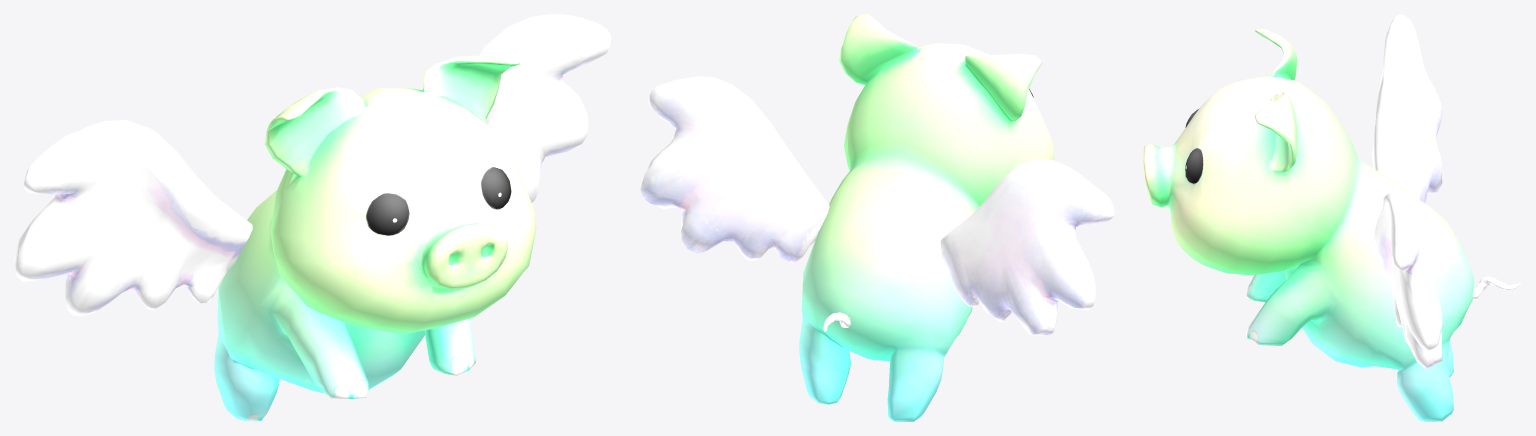
Rendered from greenPig.glb.
3 renders of one model, left to right at view 1: azimuth 30°, elevation 25°; view 2: azimuth 150°, elevation 25°; view 3: azimuth 270°, elevation 25°, orthographic. The views are drawn at different scales.
Parts seen in each view (by area): view 1: Pig, WingLP; view 2: Pig, WingLP; view 3: Pig, WingLP, Tail.001.
Boxes of the visible parts, left/top/right/bottom form: Pig: left=214, top=55, right=536, bottom=421; WingLP: left=14, top=14, right=611, bottom=316; Pig: left=799, top=14, right=1054, bottom=421; WingLP: left=640, top=76, right=1114, bottom=335; Pig: left=1143, top=28, right=1474, bottom=421; WingLP: left=1372, top=14, right=1442, bottom=369; Tail.001: left=1472, top=276, right=1521, bottom=299.
Bounding box in the file's own units: 4.16 × 2.7 × 2.8.
3 materials, 3 textured.
